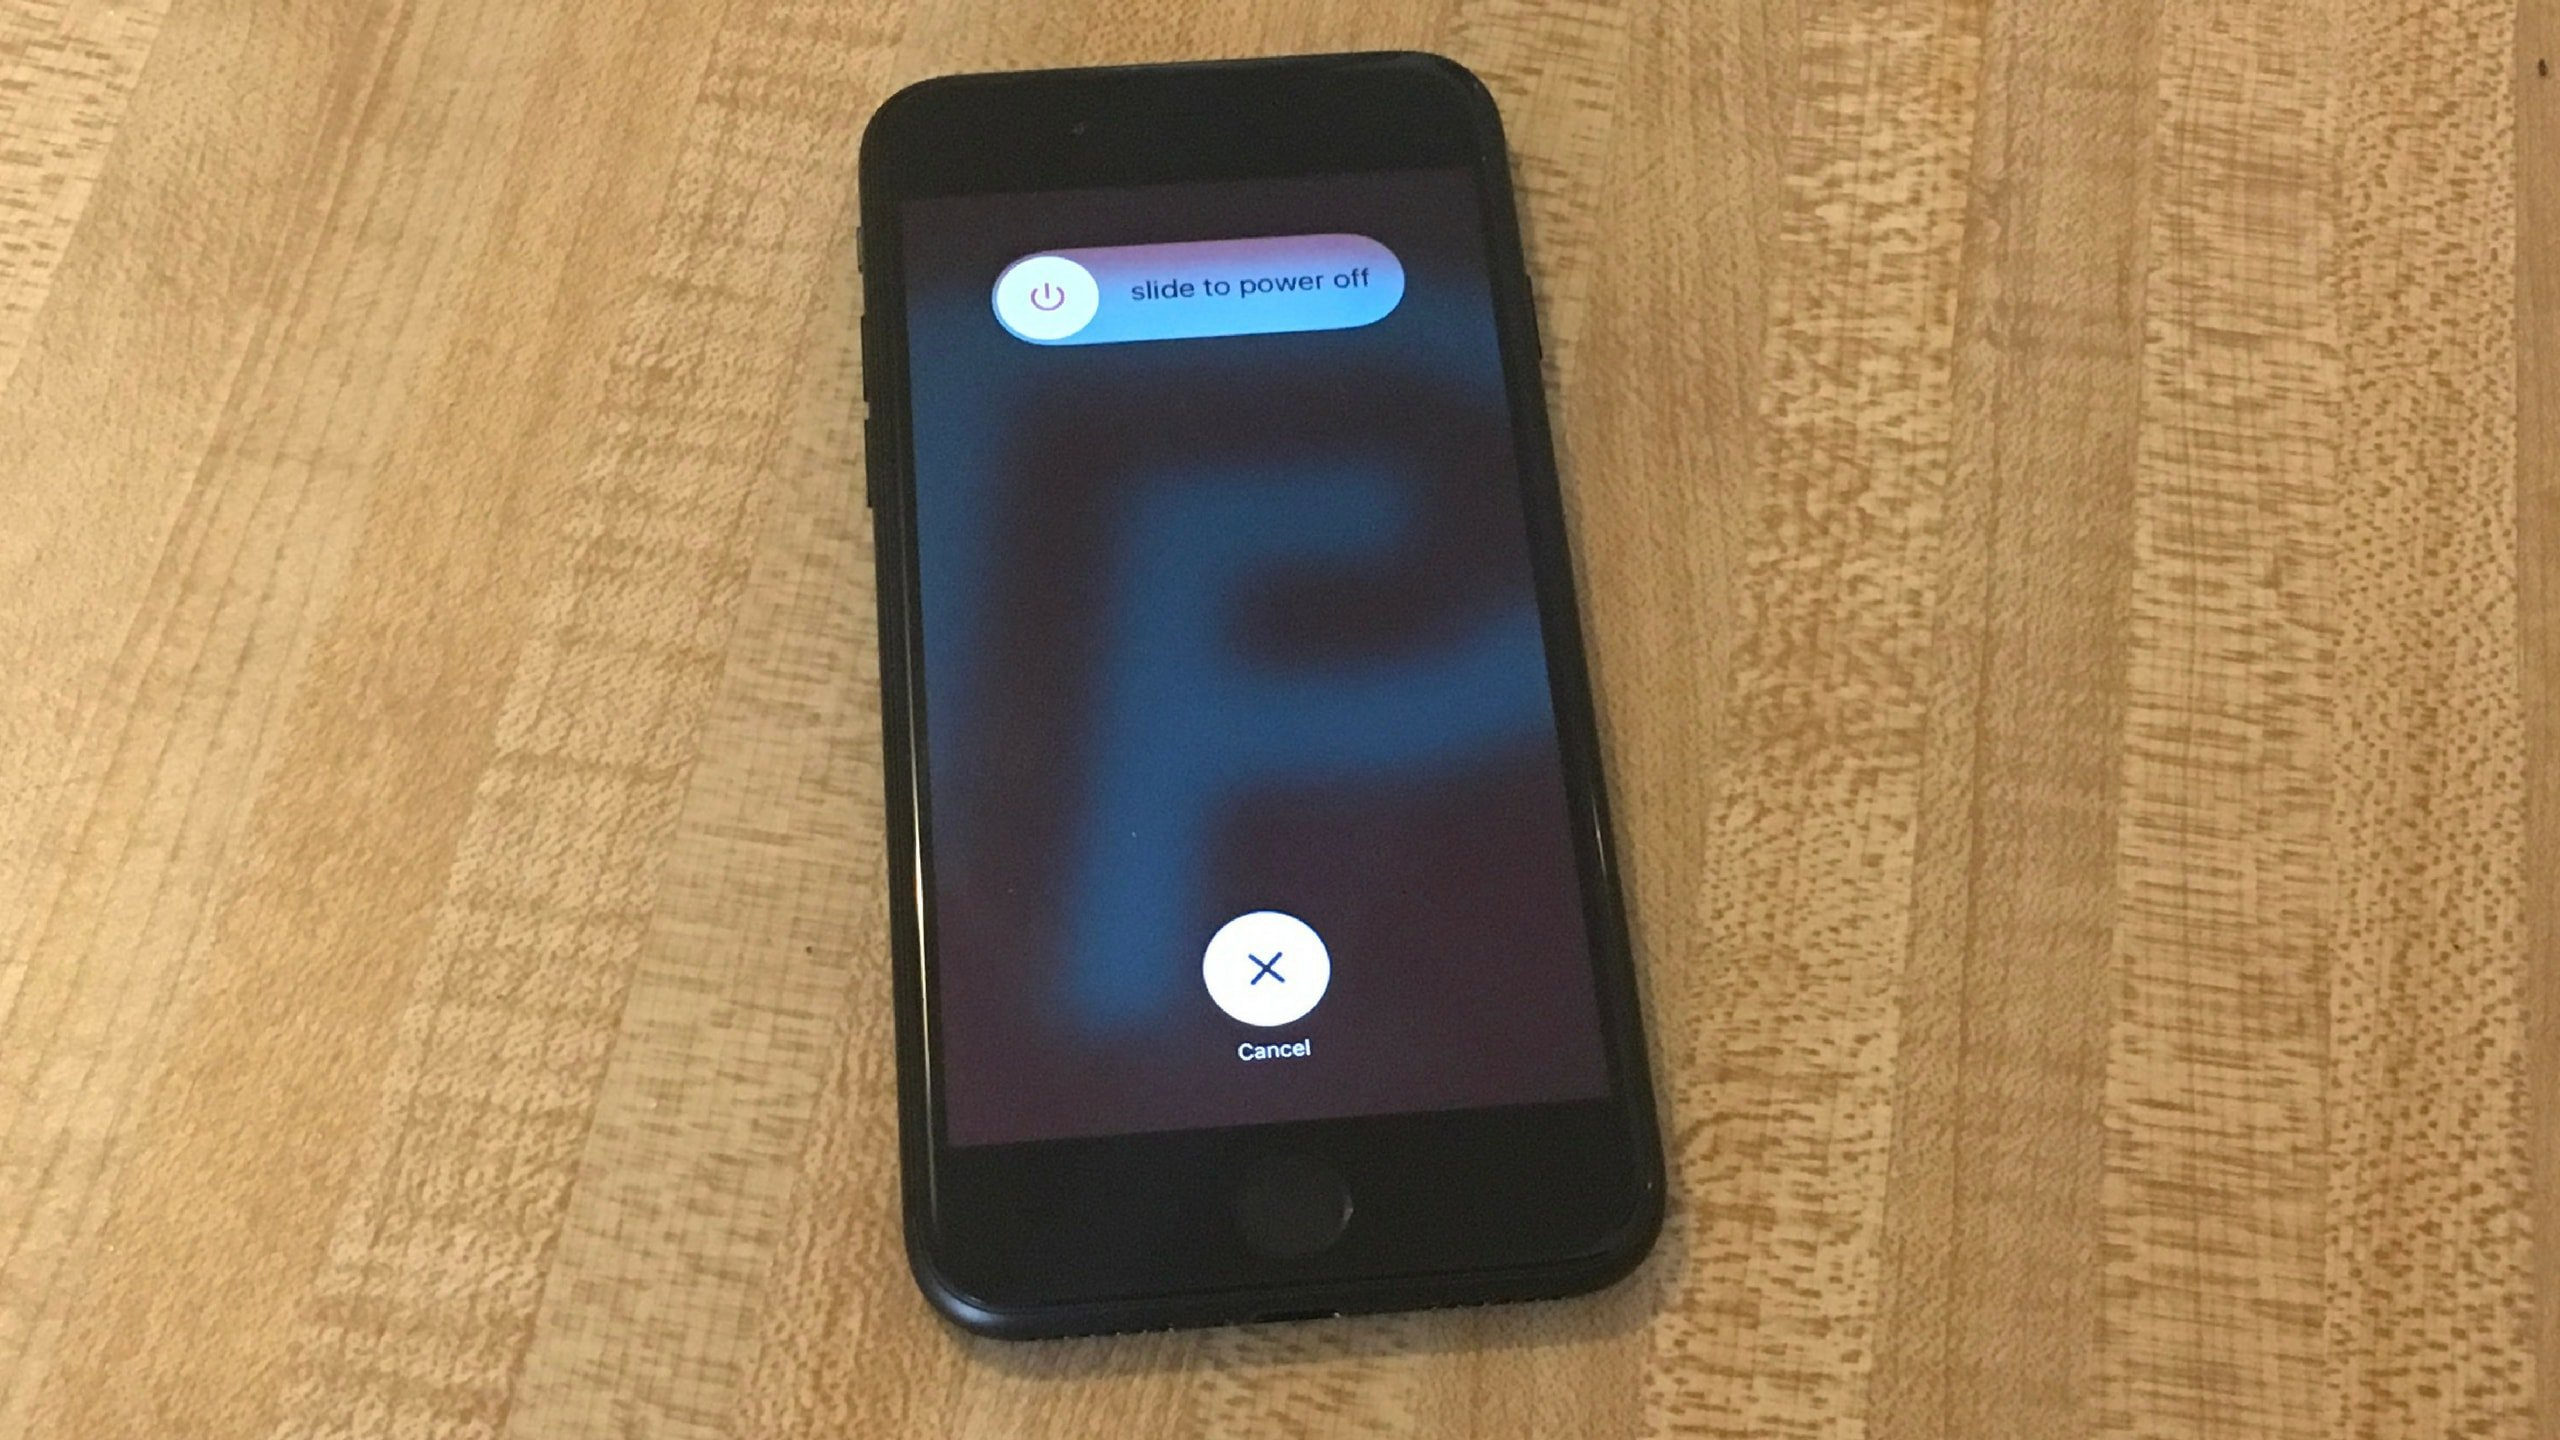Cell Phone: (839, 60, 1697, 1319)
